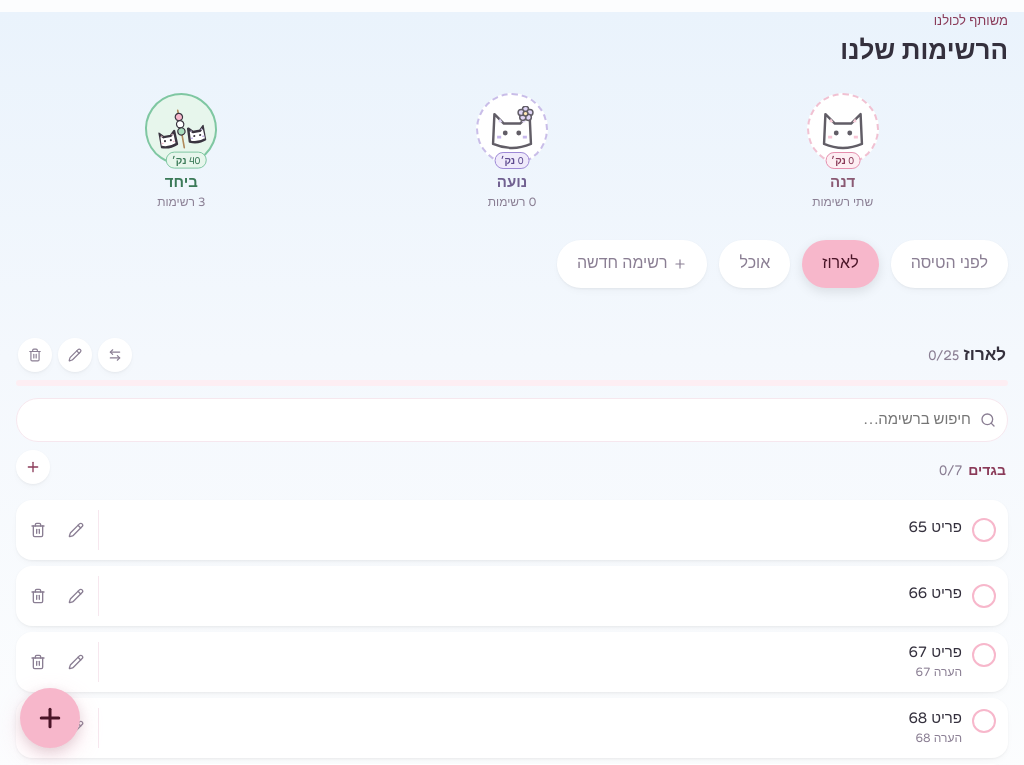
Test: whose lists › opens the new-list form for a group with no lists, and saves the list as that group’s
This screenshot has width=1024, height=765.
Later steps or results of the test are not shown.
Click the button "0 נק׳ נועה 0 רשימות" at (512, 152), box [472,88,552,216]
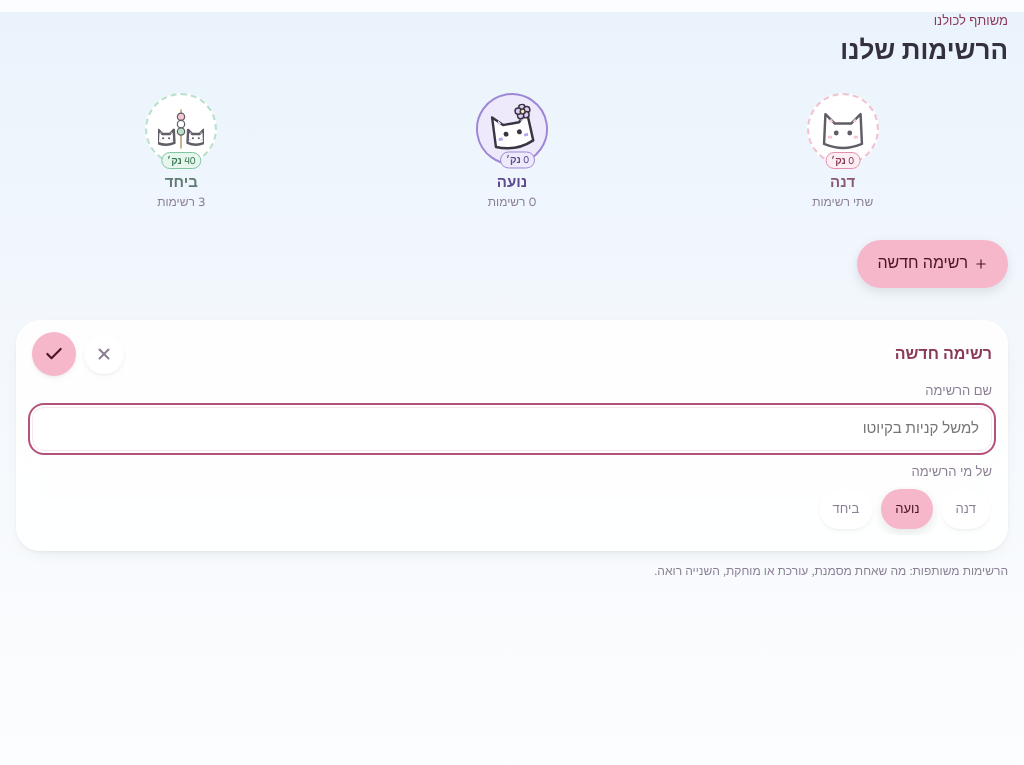
Expected: the button "נועה" is shown, [881,489,934,529]
